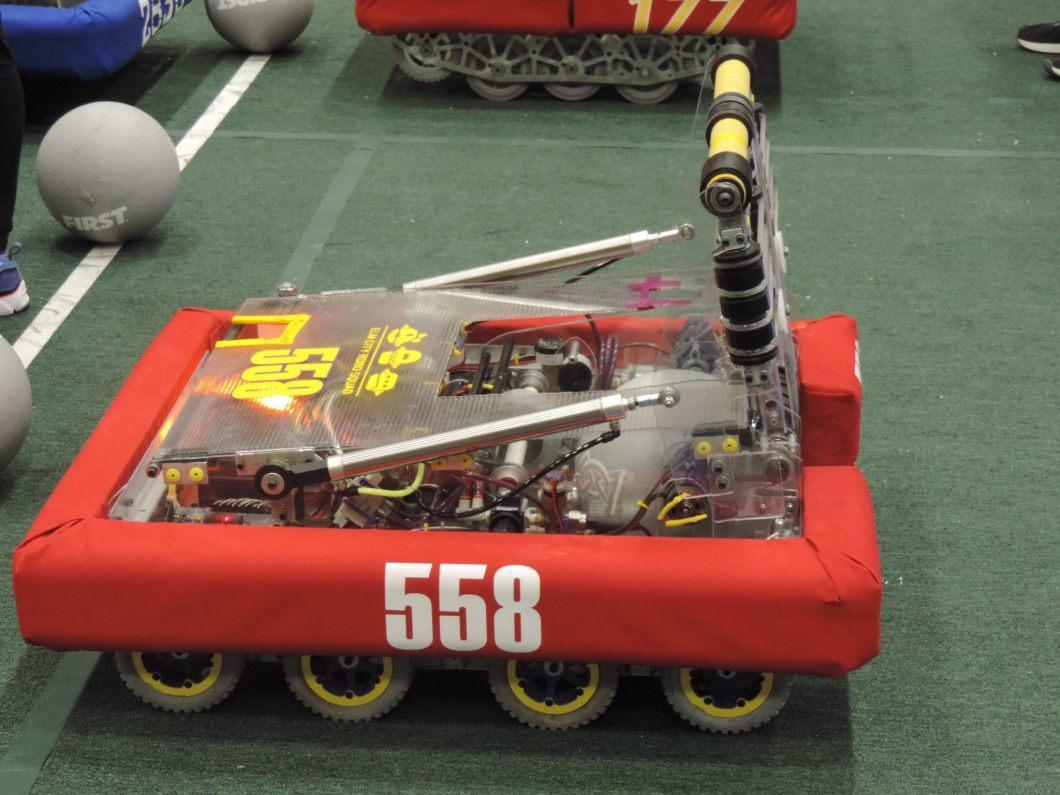robot: (0, 43, 893, 768), (314, 0, 814, 104), (0, 0, 202, 82)
